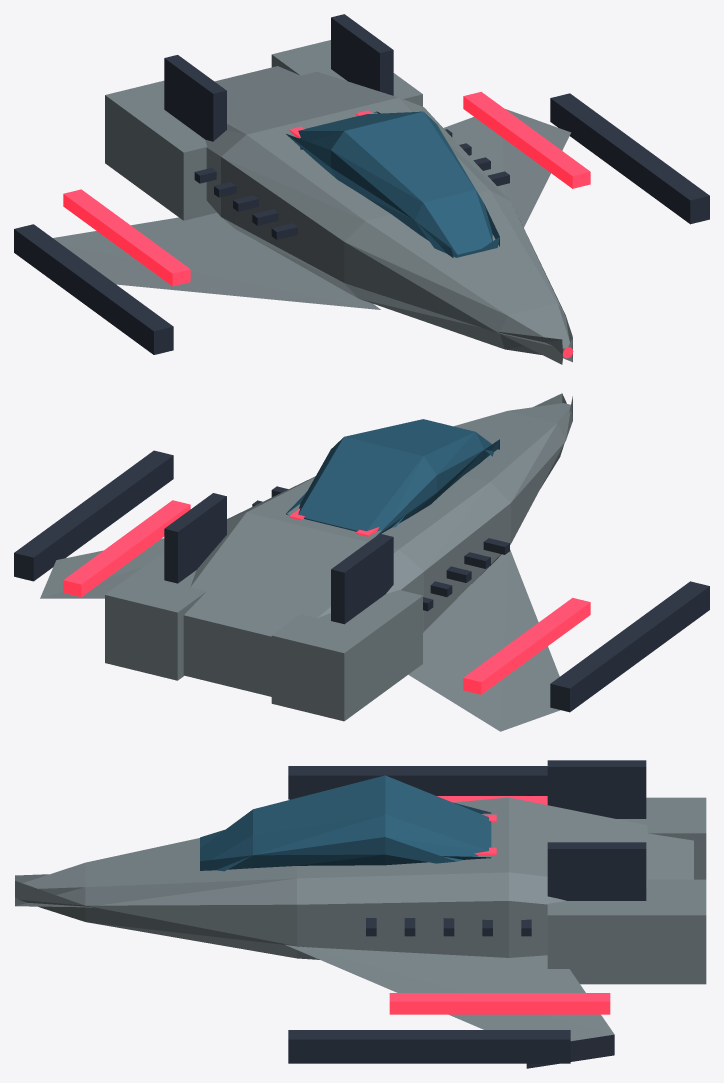
File: warden_drone.glb
The picture shows the model from 3 angles, top to bottom: view 1: azimuth 30°, elevation 25°; view 2: azimuth 150°, elevation 25°; view 3: azimuth 270°, elevation 25°; orthographic projection.
Parts seen in each view (by area): view 1: Hull; view 2: Hull; view 3: Hull.
Part boxes in pixels (x1=…): Hull: x1=14, y1=14, x2=709, y2=364; Hull: x1=14, y1=393, x2=709, y2=731; Hull: x1=15, y1=760, x2=706, y2=1068.
Bounding box in the file's own units: 3.67 × 0.92 × 3.95.
